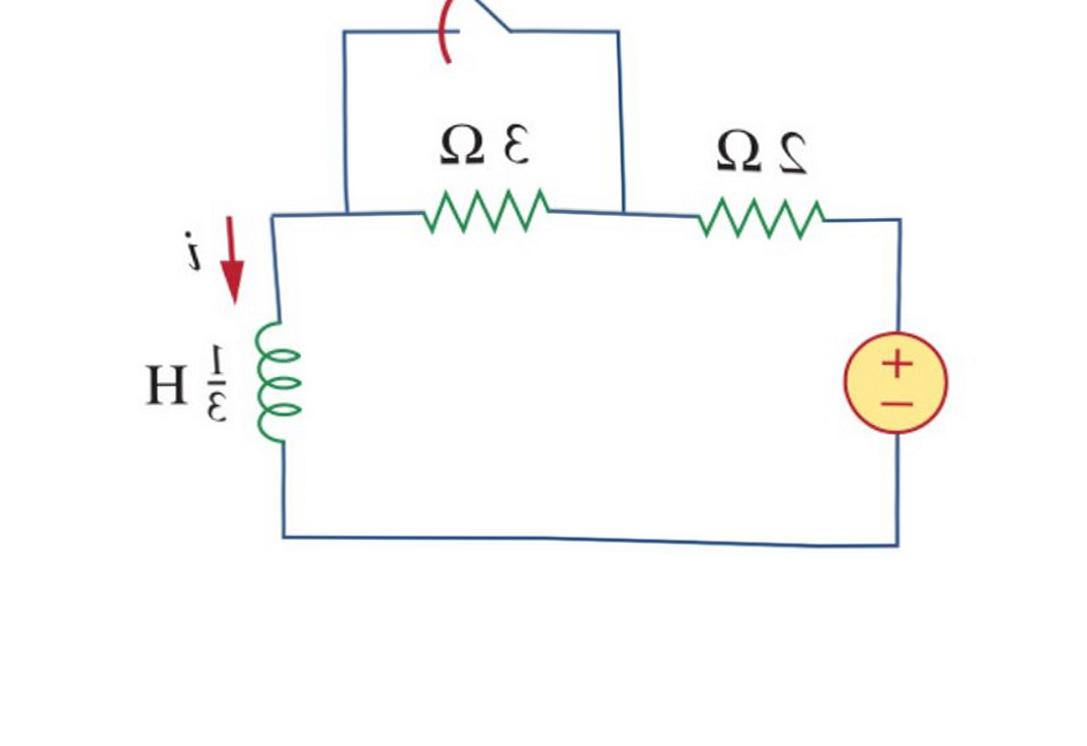Battery: (810, 288, 981, 465)
